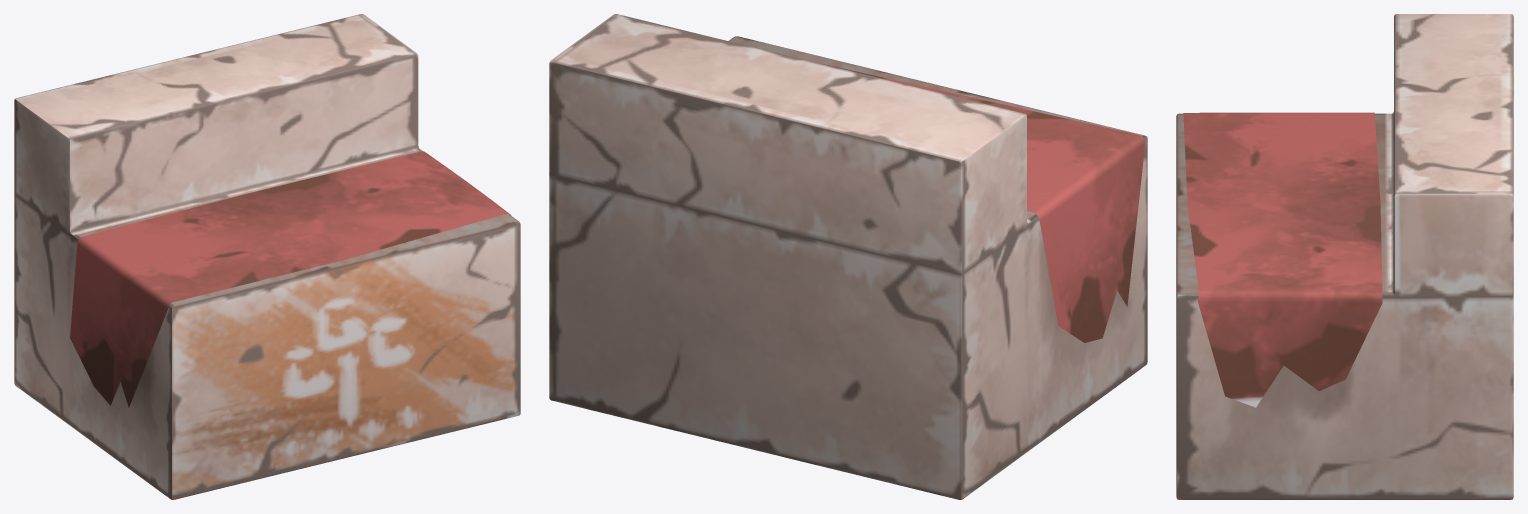
The model's file is Autel_A.FBX.
3 views of the same model, side by side, from view 1: azimuth 30°, elevation 25°; view 2: azimuth 150°, elevation 25°; view 3: azimuth 270°, elevation 25° (orthographic). The views are drawn at different scales.
Visible parts, largest first — view 1: Z3_Altar002; view 2: Z3_Altar002; view 3: Z3_Altar002.
Part boxes in pixels (left/top/right/bottom): Z3_Altar002: left=14, top=14, right=520, bottom=499; Z3_Altar002: left=549, top=14, right=1147, bottom=499; Z3_Altar002: left=1176, top=14, right=1513, bottom=499.
Size of the model in its own units: 284 by 208 by 208.
